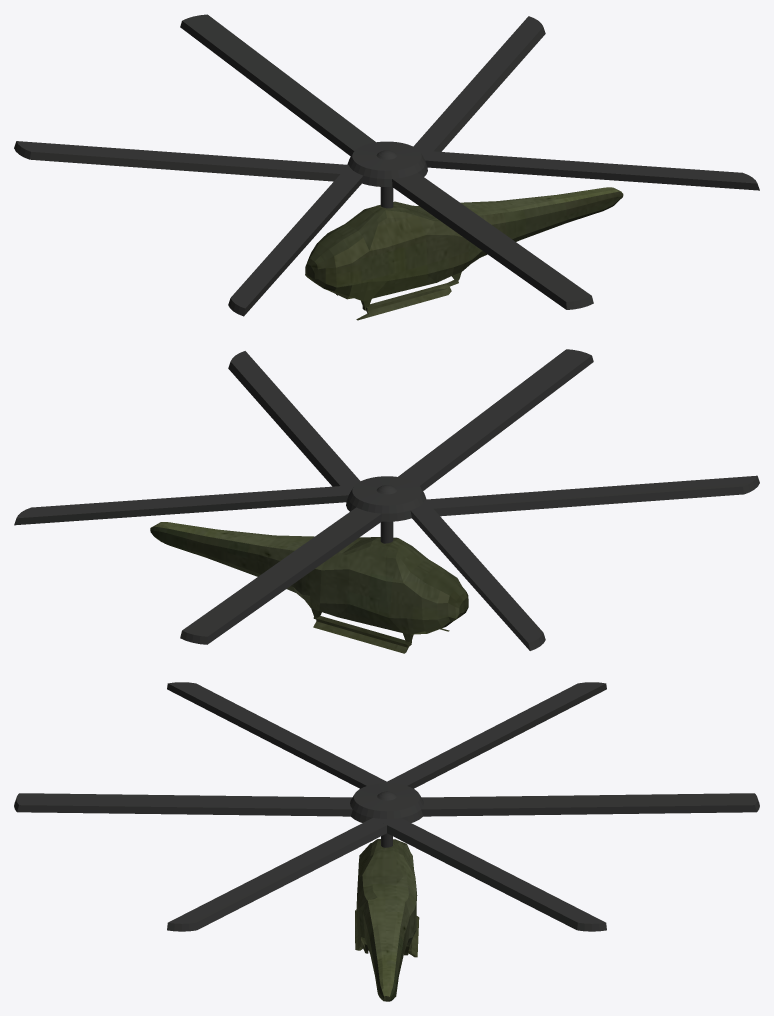
File: helicopter.glb
3 views of the same model, one above another, from view 1: azimuth 30°, elevation 25°; view 2: azimuth 150°, elevation 25°; view 3: azimuth 270°, elevation 25° (orthographic). The views are drawn at different scales.
Parts seen in each view (by area): view 1: mainRotor, heliBody; view 2: mainRotor, heliBody; view 3: mainRotor, heliBody.
Boxes of the visible parts, bbox=[...] form: mainRotor: bbox=[14, 14, 759, 316]; heliBody: bbox=[305, 187, 623, 320]; mainRotor: bbox=[14, 349, 759, 650]; heliBody: bbox=[150, 522, 468, 653]; mainRotor: bbox=[14, 682, 759, 931]; heliBody: bbox=[355, 839, 419, 1001].
Bounding box in the file's own units: 14.4 × 3.87 × 18.63.
Materials: 5 (4 with a texture image).
